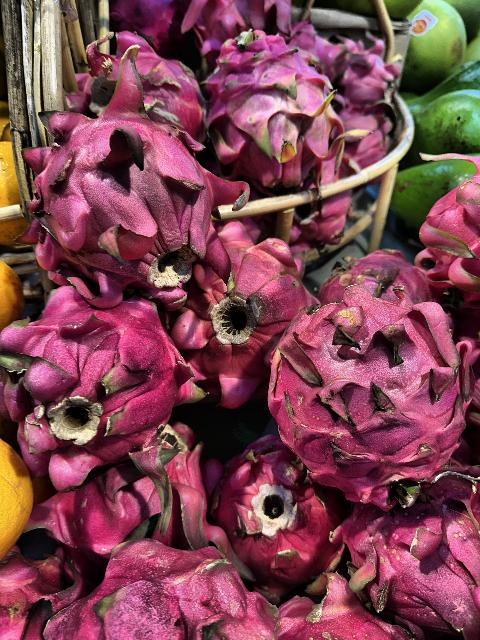buah-naga-matang: (259, 220, 459, 508), (10, 79, 218, 284), (0, 275, 196, 473), (316, 456, 480, 640), (206, 14, 346, 194), (168, 221, 306, 403), (50, 534, 282, 640), (207, 436, 343, 586)
